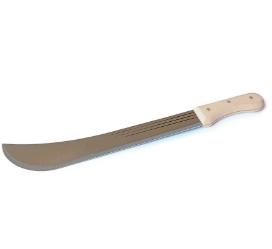MACHETTE: (0, 89, 272, 177)
